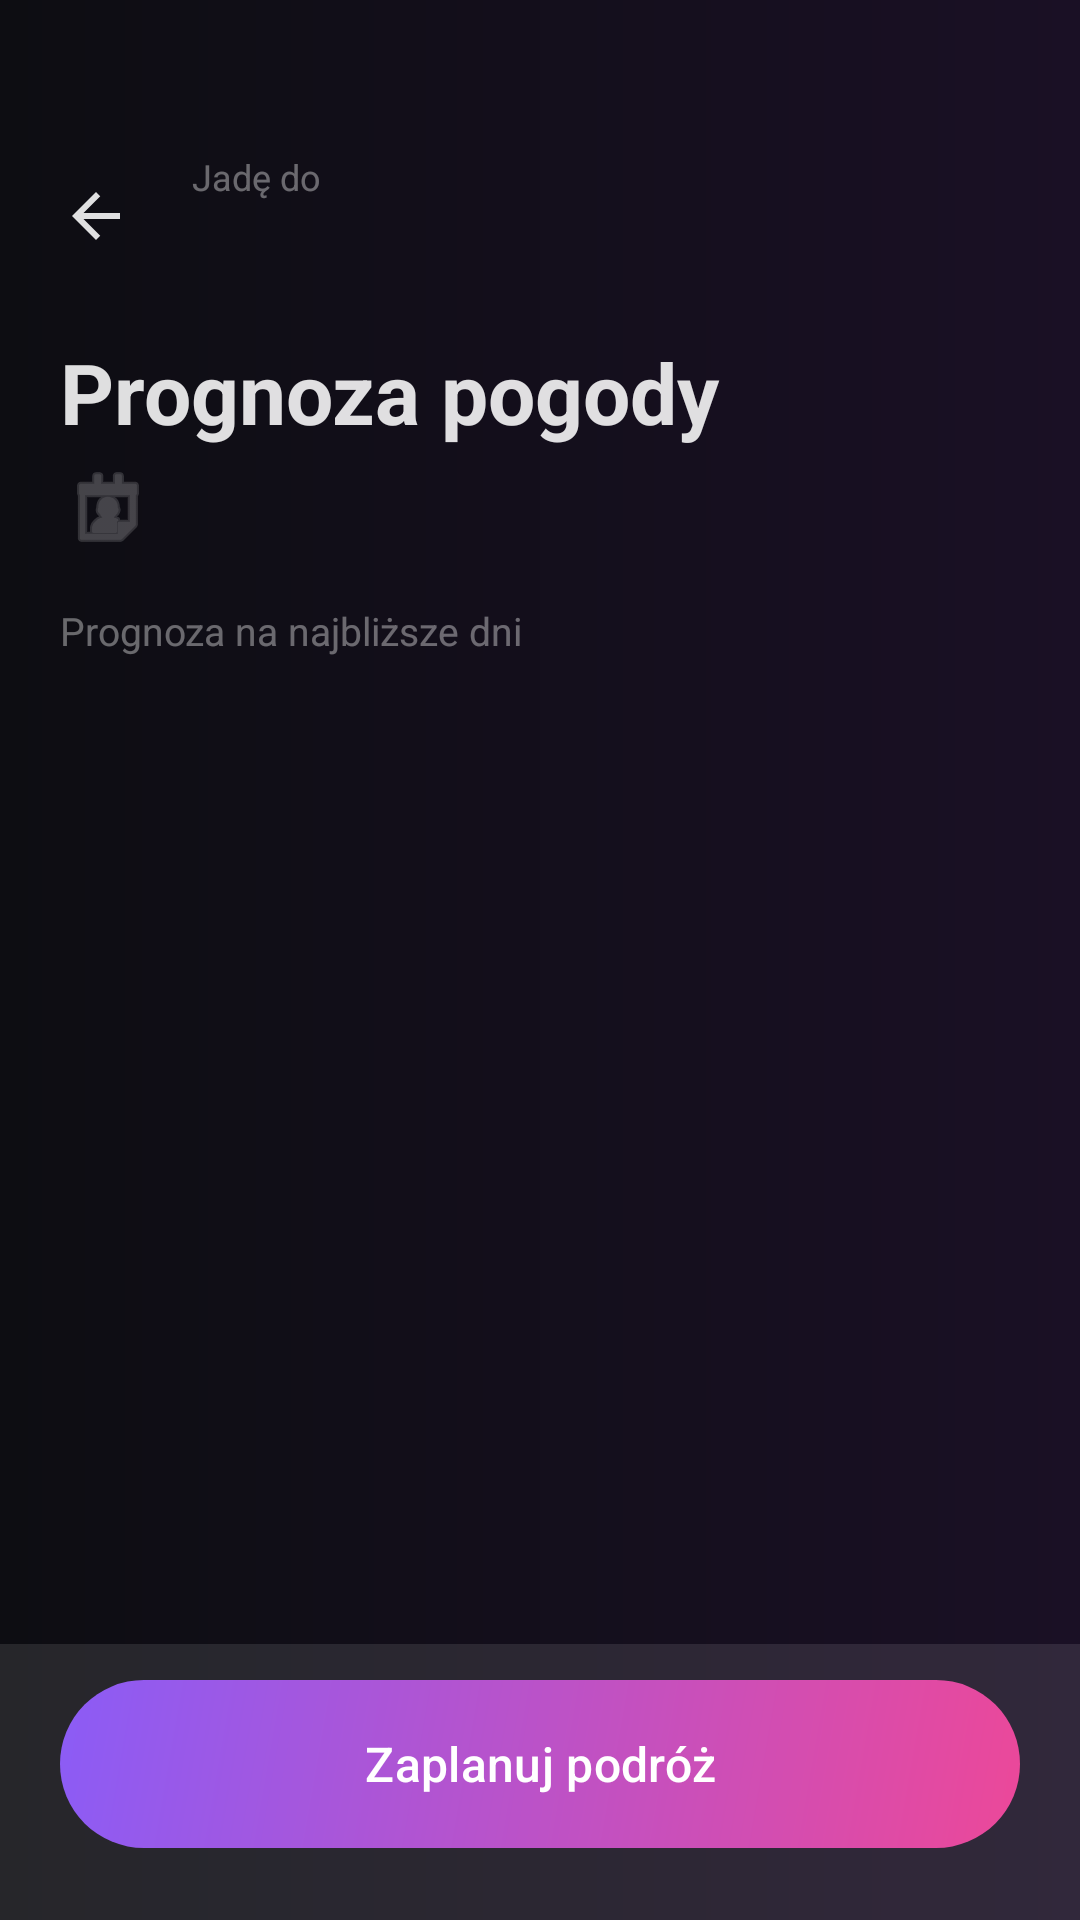

Screen size 1080w x 1920h. Icon name, then its box in pixels as detection(x1, y1, x2, y2):
Wróć: detection(72, 192, 120, 240)
